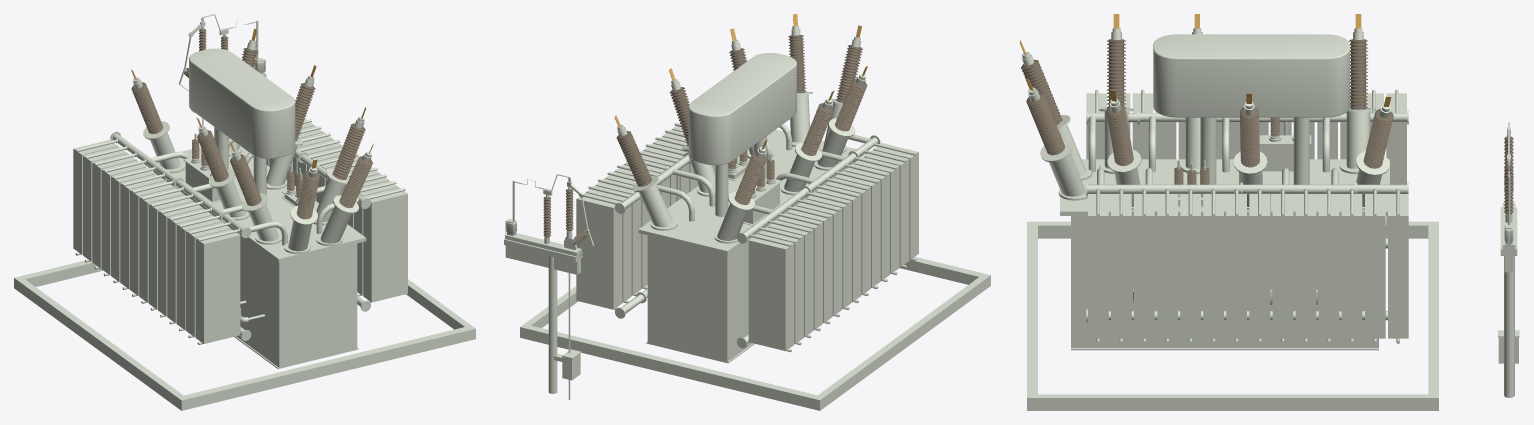
File: Tans01Single.gltf
3 views of the same model, side by side, from view 1: azimuth 30°, elevation 25°; view 2: azimuth 150°, elevation 25°; view 3: azimuth 270°, elevation 25° (orthographic). The views are drawn at different scales.
Parts seen in each view (by area): view 1: boxOnBox01.1, powerA, col-metal, col-chian2, pole-metal, 圆柱体-chian2; view 2: boxOnBox01.1, powerA, col-metal, col-chian2, pole-metal, pole-chian2; view 3: boxOnBox01.1, powerA, col-chian2, col-metal, pole-metal, 圆柱体-chian2, col-Cu, pole-chian2.
Boxes of the visible parts, <box> form: boxOnBox01.1: <box>73,48,407,368</box>; powerA: <box>14,260,475,410</box>; col-metal: <box>132,39,371,251</box>; col-chian2: <box>131,48,372,219</box>; pole-metal: <box>179,14,266,140</box>; 圆柱体-chian2: <box>192,139,303,198</box>; boxOnBox01.1: <box>576,53,918,363</box>; powerA: <box>520,256,990,410</box>; col-metal: <box>617,26,865,240</box>; col-chian2: <box>616,35,867,204</box>; pole-metal: <box>504,174,593,399</box>; pole-chian2: <box>543,189,588,243</box>; boxOnBox01.1: <box>1058,34,1408,350</box>; powerA: <box>1027,221,1438,410</box>; col-chian2: <box>1021,39,1393,168</box>; col-metal: <box>1021,28,1390,206</box>; pole-metal: <box>1498,122,1519,397</box>; 圆柱体-chian2: <box>1174,117,1279,184</box>; col-Cu: <box>1019,14,1391,106</box>; pole-chian2: <box>1504,136,1513,214</box>.
Size of the model in its own units: 1086 by 877 by 1300.
